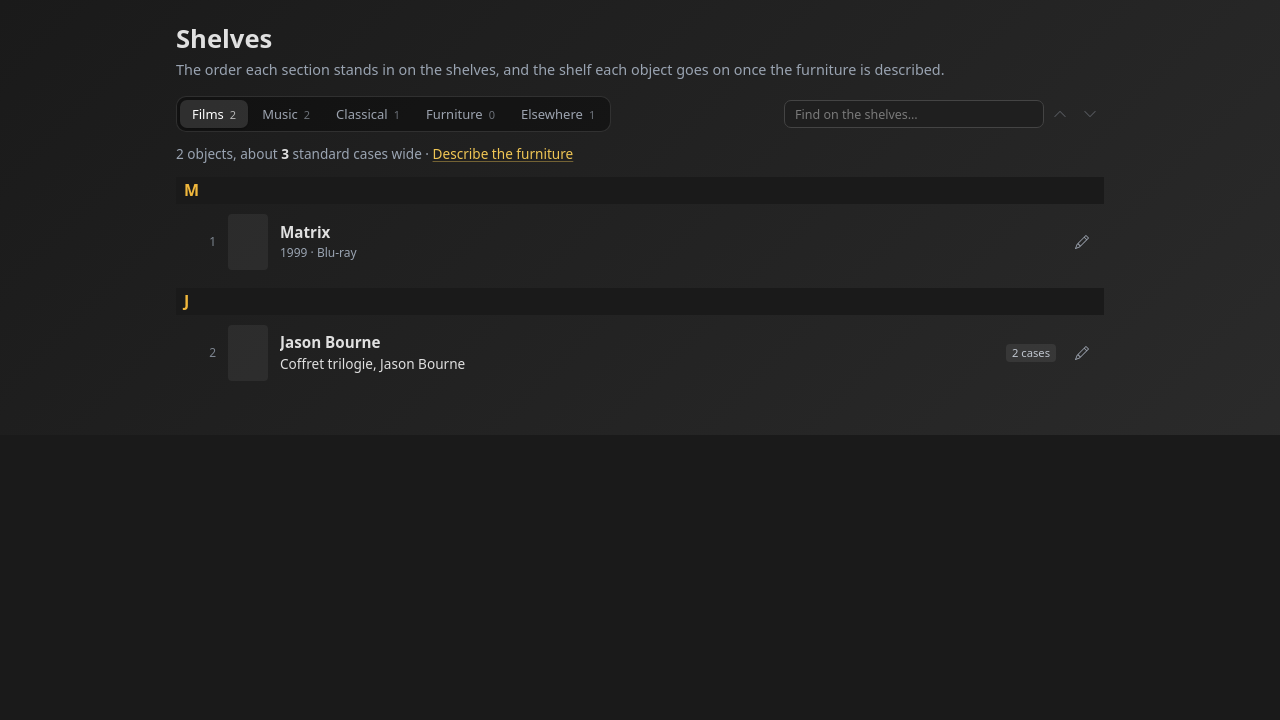
Test case: ShelvesPage › ne propose pas de section pour un film
Step 1. Click the button named "Edit shelving of The Matrix" → (1082, 242), box left=1068, top=228, right=1096, bottom=256
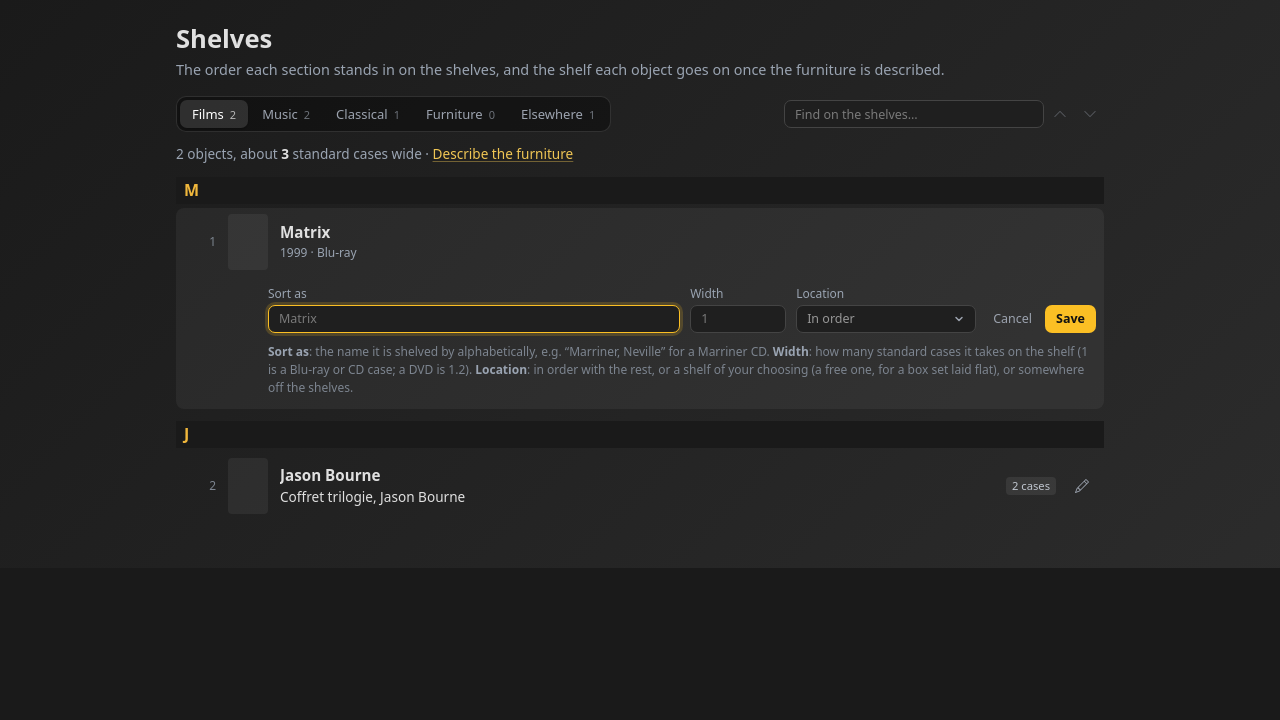
Step 2. Press Escape in the field labelled "Sort as", box left=268, top=305, right=680, bottom=333
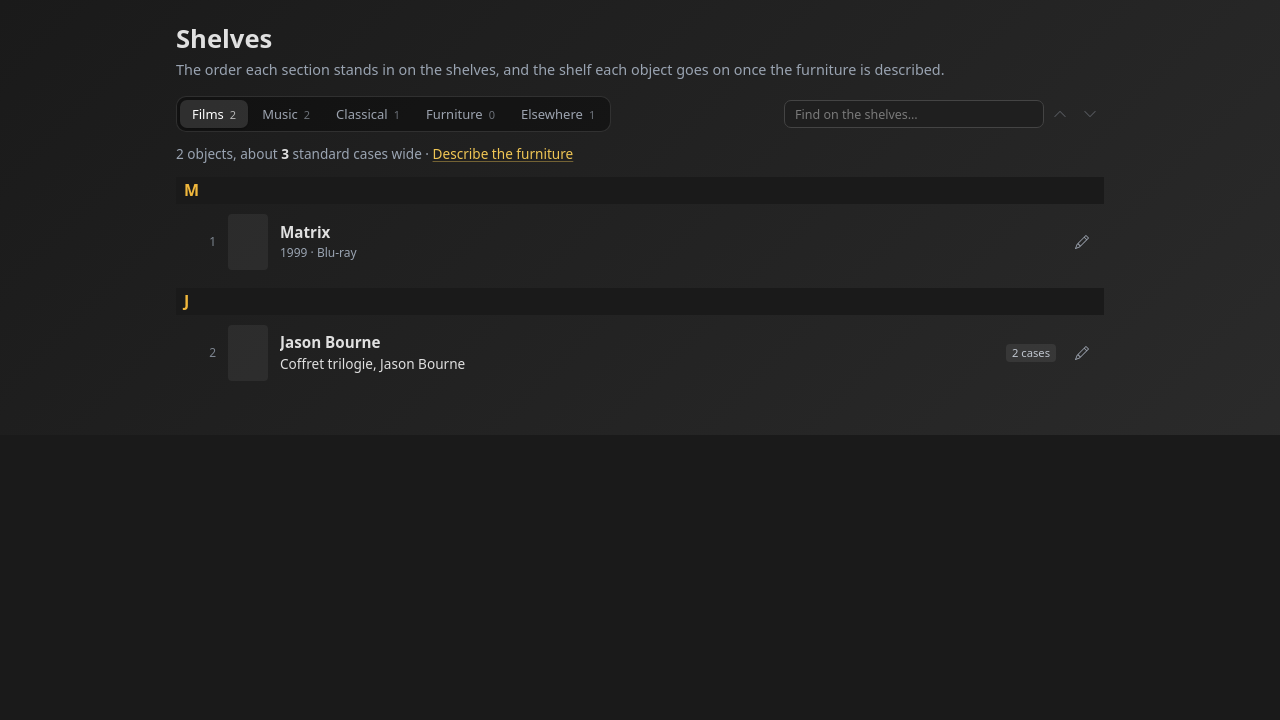
Check: the label labelled "Sort as" is gone
